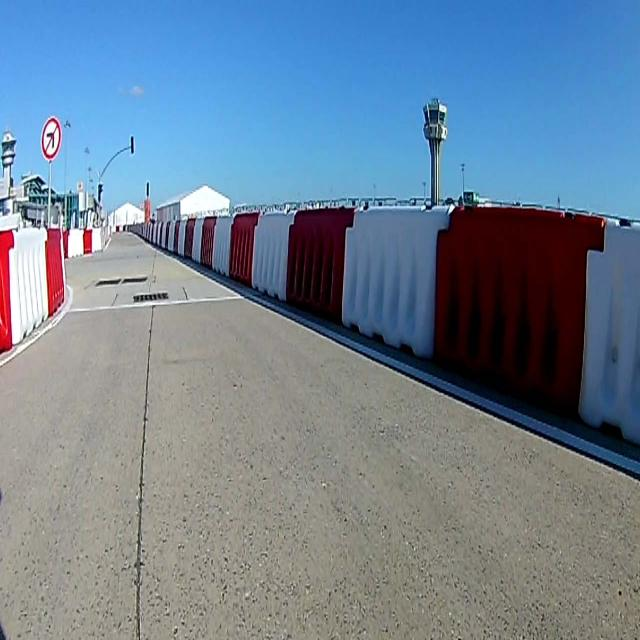soladonulmez: (40, 115, 60, 162)
